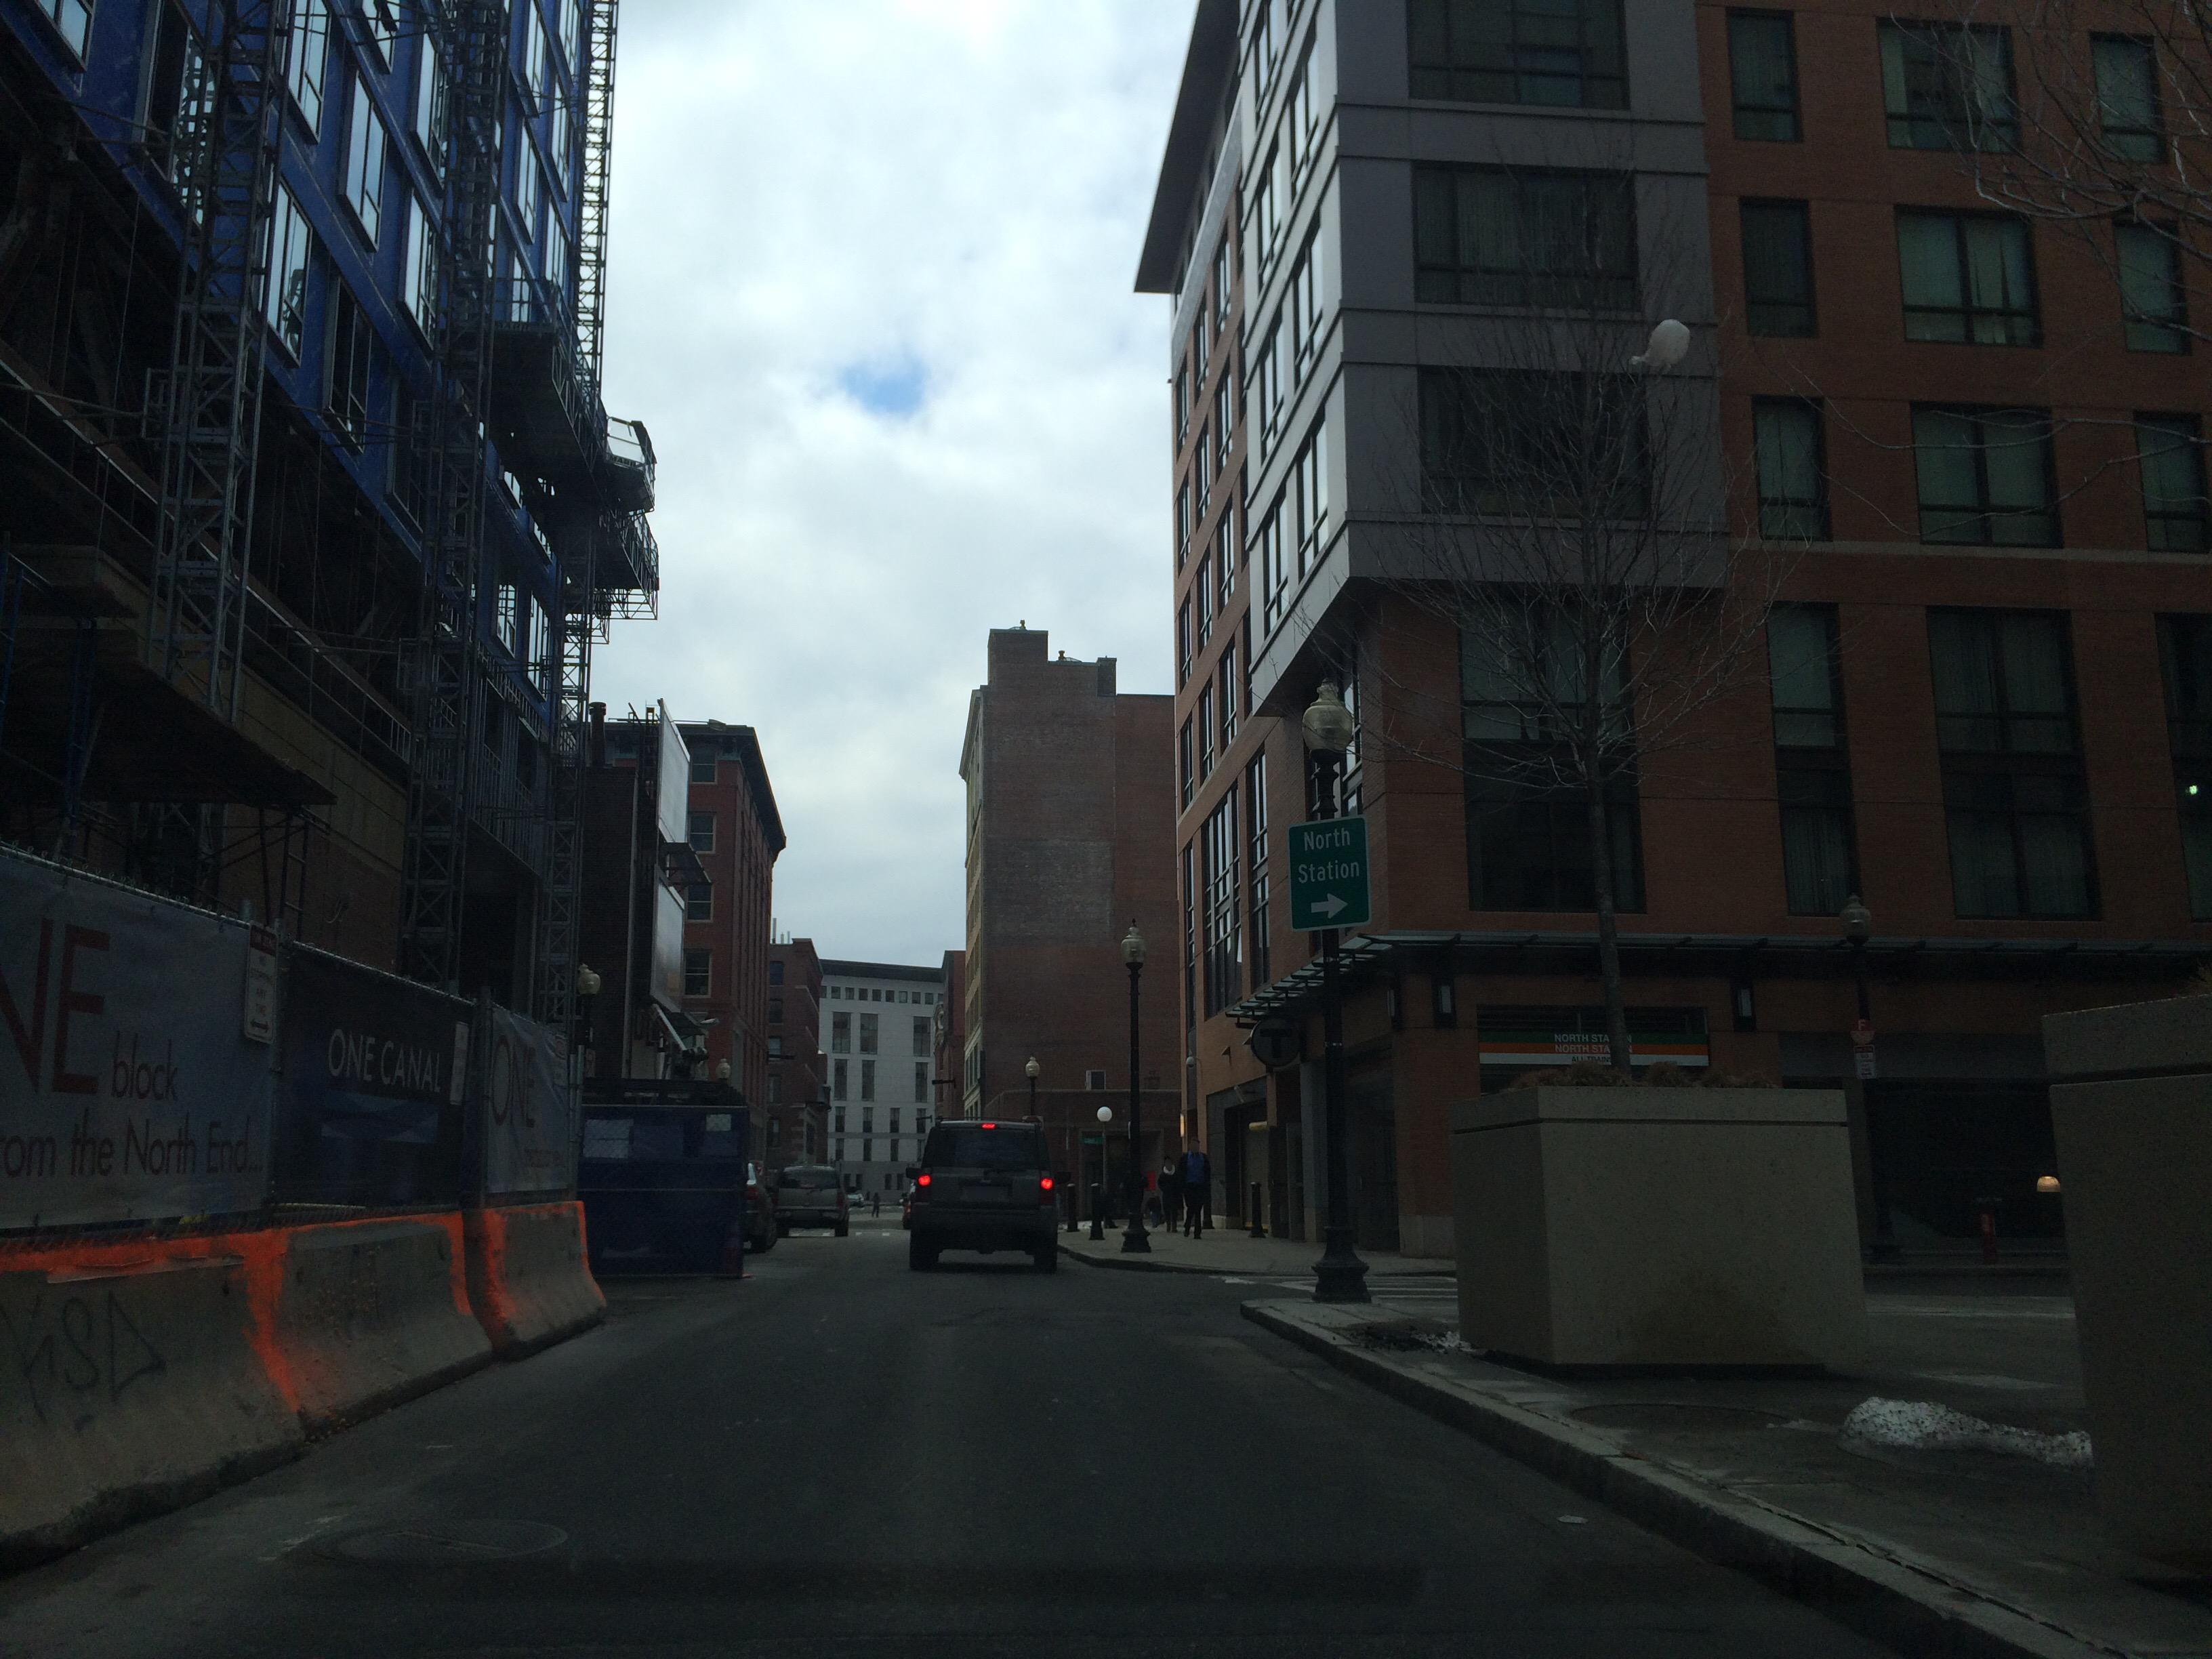vinyl banner: (3, 843, 273, 1249), (296, 918, 488, 1223), (482, 983, 587, 1208)
